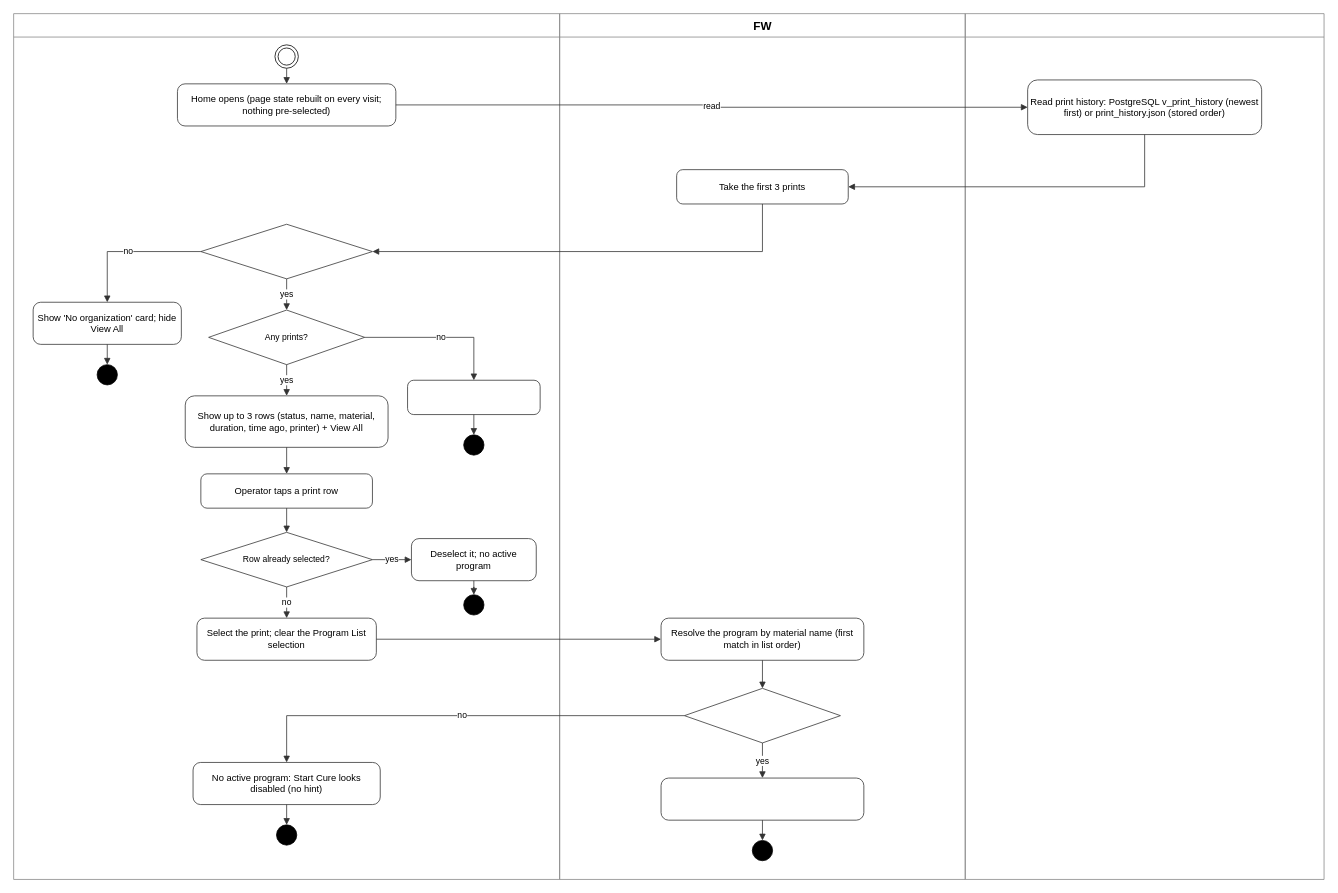
This 1338x893 diagram has some shape labels left out. Each missing label, with the box of its shape:
Active program = the match; Start Cure gates apply (Section 6.8): (660, 777, 864, 820)
Organization linked?: (200, 223, 372, 279)
Program found?: (684, 688, 840, 743)
Show 'No prints yet.': (407, 379, 540, 415)
Storage: (964, 13, 1324, 879)
UI: (13, 13, 560, 879)
